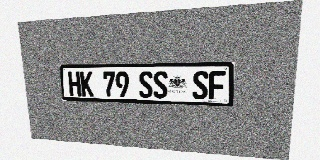7: (102, 71, 116, 97)
9: (115, 71, 130, 98)
F: (208, 71, 226, 100)
H: (68, 72, 81, 96)
K: (80, 71, 94, 97)
S: (192, 71, 208, 100), (138, 71, 153, 98), (153, 71, 168, 98)
